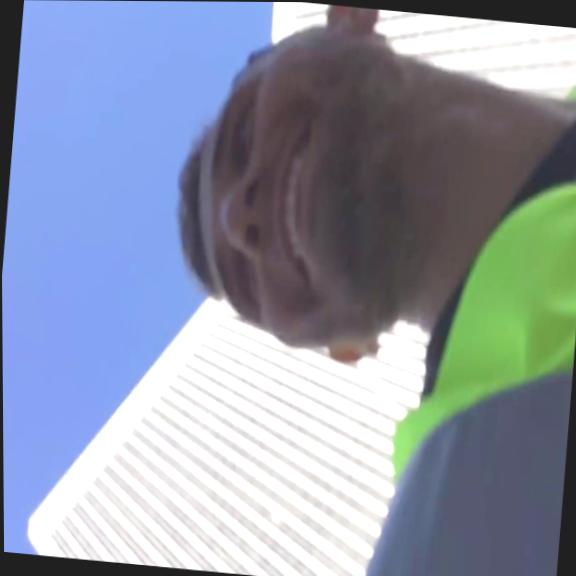safety_vest: (350, 38, 576, 576)
